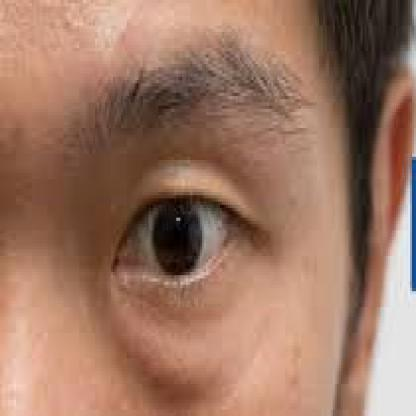puffyeye: (103, 272, 271, 397)
